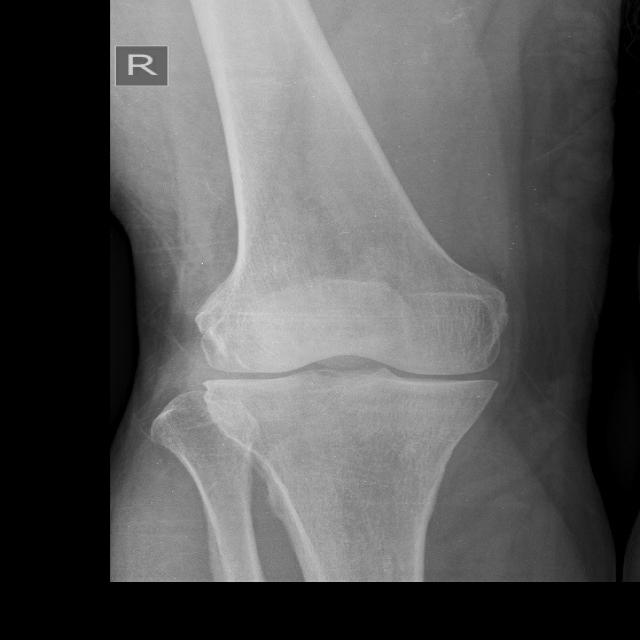normal: (188, 290, 516, 423)
